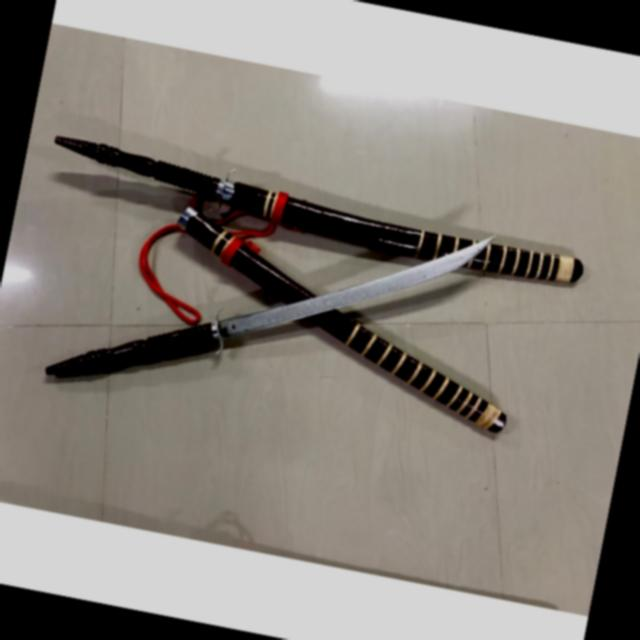long sword: (39, 150, 504, 463)
